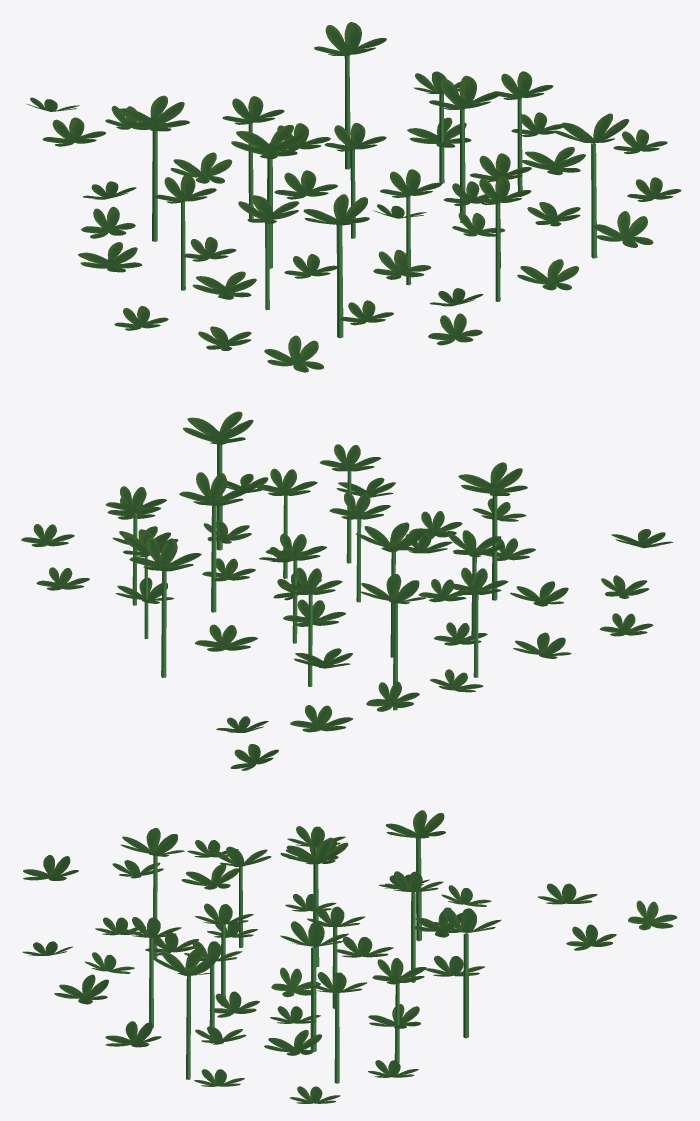
File: SM_shamrocks.fbx
3 renders of one model, top to bottom at view 1: azimuth 30°, elevation 25°; view 2: azimuth 150°, elevation 25°; view 3: azimuth 270°, elevation 25°, orthographic. The views are drawn at different scales.
Visible parts, largest first — view 1: Line016; view 2: Line016; view 3: Line016.
Part boxes in pixels (x1=…): Line016: x1=27, y1=22, x2=681, y2=372; Line016: x1=21, y1=411, x2=673, y2=770; Line016: x1=22, y1=810, x2=677, y2=1103.
Size of the model in its own units: 48.3 by 9.97 by 49.71.
